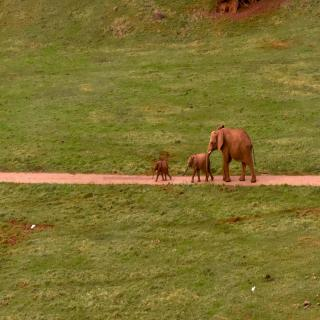Elephant: (206, 124, 258, 186), (182, 150, 214, 183), (152, 158, 174, 184)
